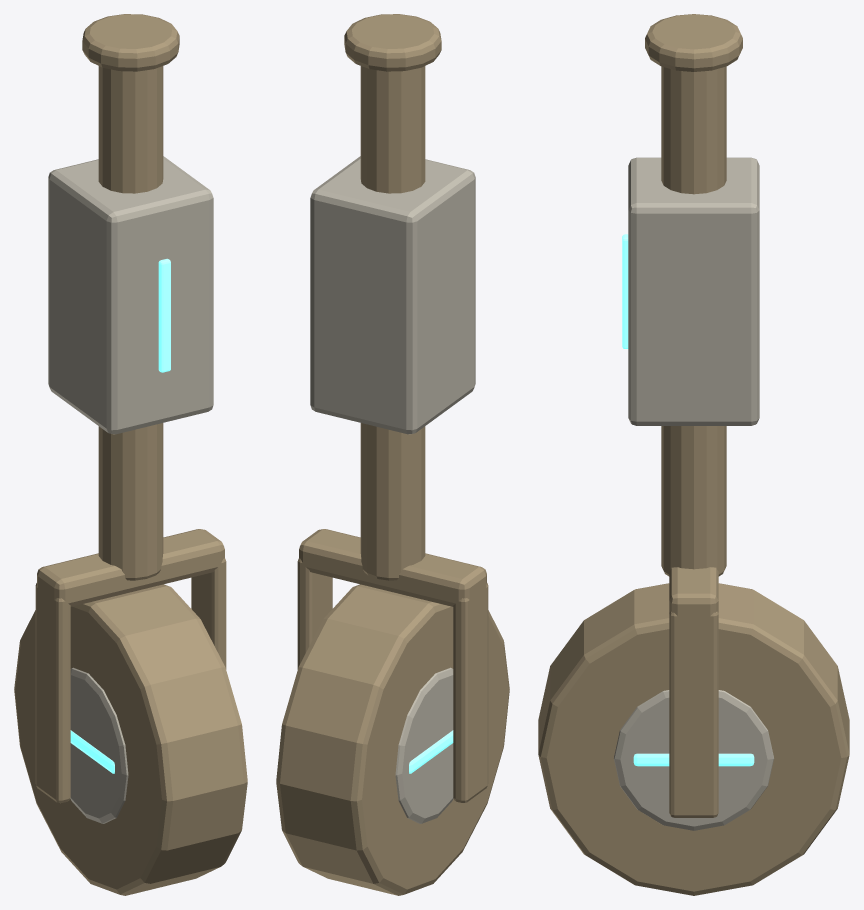
File: LegWheel.glb
3 views of the same model, side by side, from view 1: azimuth 30°, elevation 25°; view 2: azimuth 150°, elevation 25°; view 3: azimuth 270°, elevation 25° (orthographic).
Visible parts, largest first — view 1: PART_LegWheel.002, LegWheel_Wheel.002; view 2: PART_LegWheel.002, LegWheel_Wheel.002; view 3: PART_LegWheel.002, LegWheel_Wheel.002.
Part boxes in pixels (x1=…): PART_LegWheel.002: x1=35, y1=14, x2=226, y2=803; LegWheel_Wheel.002: x1=14, y1=584, x2=247, y2=895; PART_LegWheel.002: x1=297, y1=14, x2=488, y2=803; LegWheel_Wheel.002: x1=276, y1=584, x2=509, y2=895; PART_LegWheel.002: x1=622, y1=14, x2=759, y2=817; LegWheel_Wheel.002: x1=538, y1=583, x2=849, y2=895.
Size of the model in its own units: 0.48 by 2.28 by 0.76.
